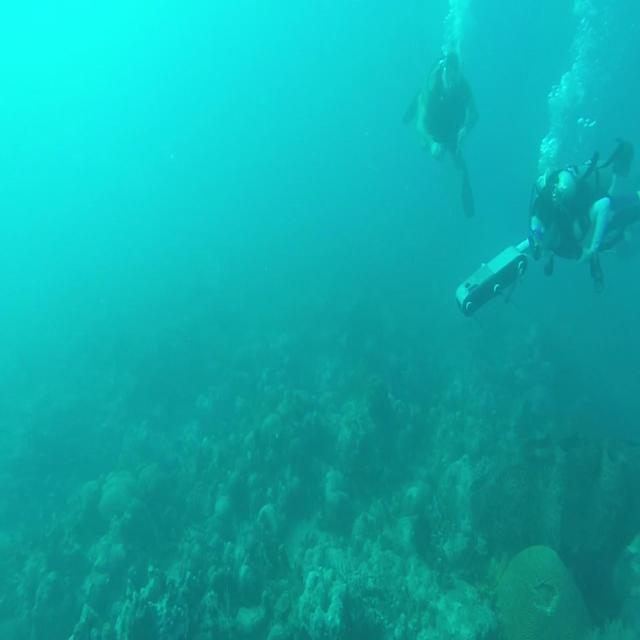human: (528, 136, 636, 289), (402, 46, 479, 218)
